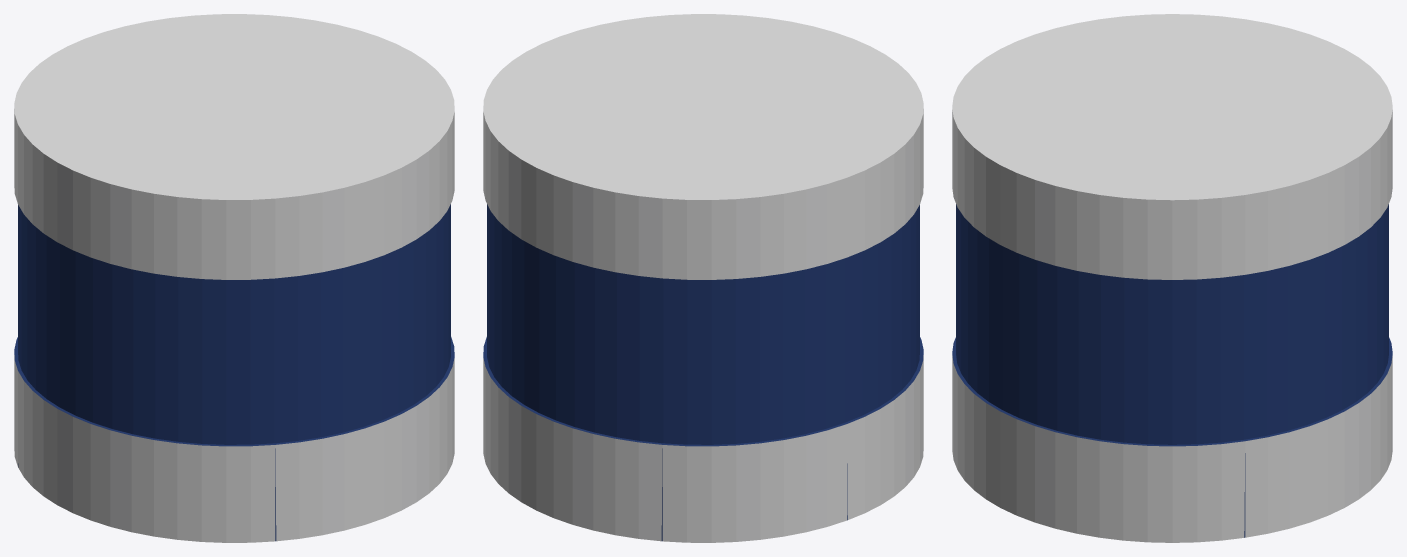
File: lslidar.dae
3 views of the same model, side by side, from view 1: azimuth 30°, elevation 25°; view 2: azimuth 150°, elevation 25°; view 3: azimuth 270°, elevation 25° (orthographic).
Visible parts, largest first — view 1: Lidar; view 2: Lidar; view 3: Lidar.
Boxes of the visible parts, bbox=[...] form: Lidar: bbox=[14, 14, 454, 542]; Lidar: bbox=[483, 14, 923, 542]; Lidar: bbox=[952, 14, 1392, 542].
Bounding box in the file's own units: 0.12 × 0.12 × 0.103.
